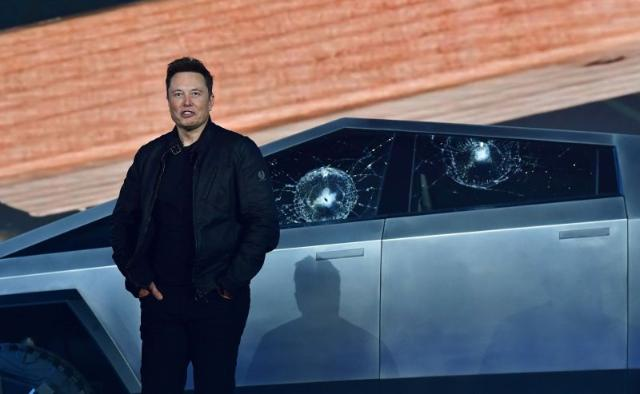tesla: (28, 116, 640, 394)
